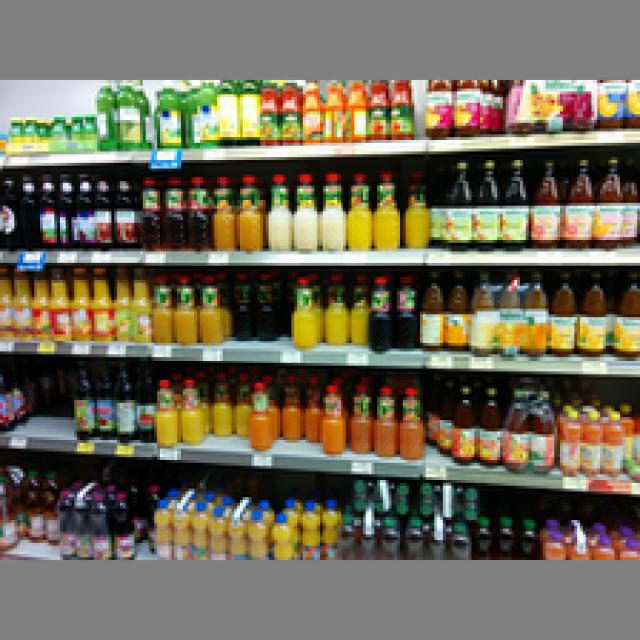groceries: (286, 274, 320, 343), (346, 168, 371, 243), (246, 377, 271, 452), (152, 371, 177, 440), (112, 77, 137, 146)
